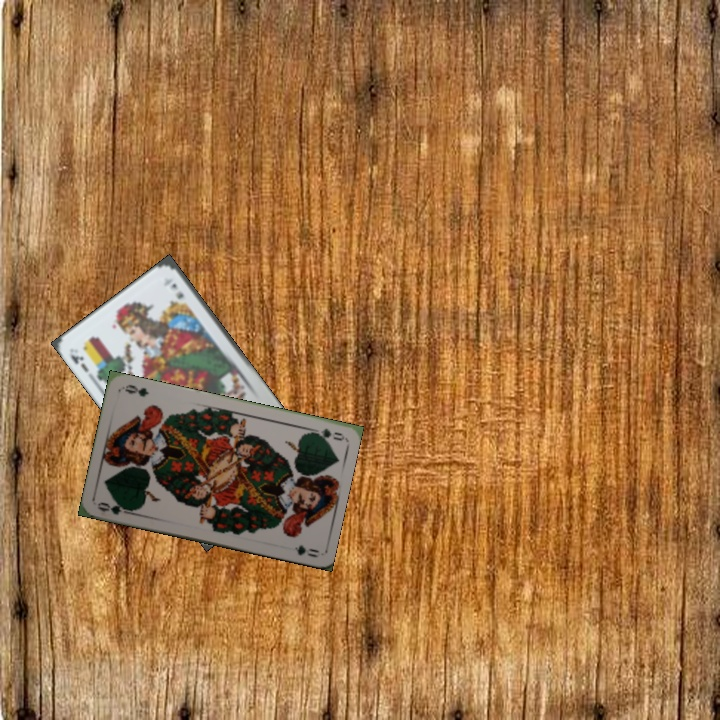EK: (65, 348, 91, 374)
GO: (94, 498, 135, 517), (304, 424, 345, 443)
